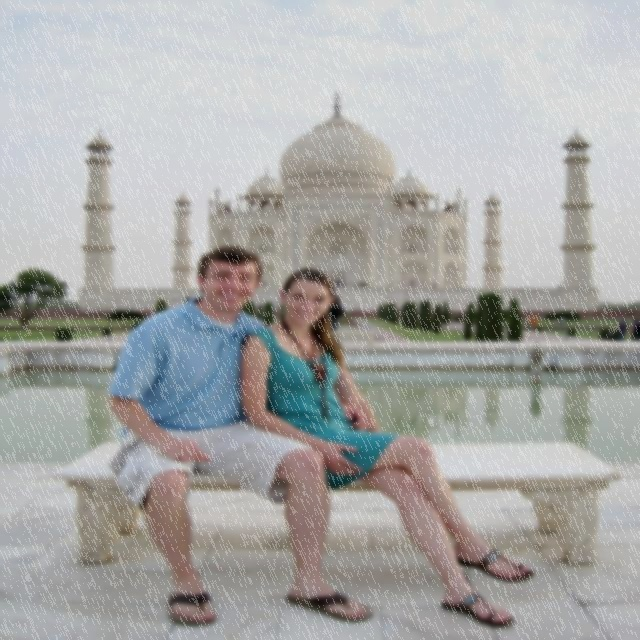pessoa: (233, 264, 540, 630), (104, 240, 378, 630), (389, 408, 462, 426), (328, 295, 340, 332), (614, 318, 628, 342), (330, 280, 367, 288), (630, 318, 638, 342), (636, 303, 640, 340), (530, 314, 540, 326), (6, 310, 20, 318), (524, 316, 532, 327), (555, 280, 564, 289), (559, 316, 566, 327), (452, 282, 462, 288), (552, 316, 558, 324), (63, 306, 70, 311), (432, 282, 436, 290)
